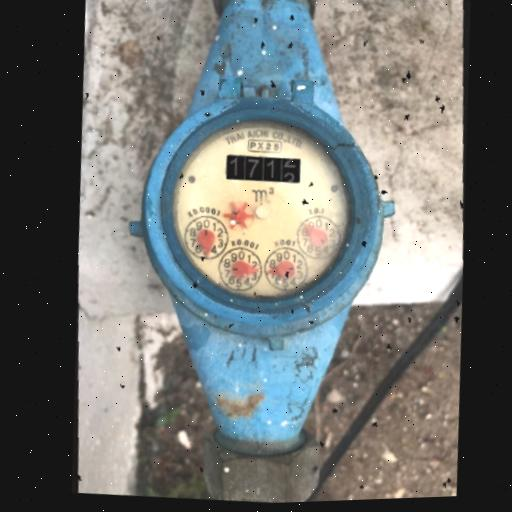1: (226, 155, 247, 181), (262, 157, 282, 182)
2: (280, 158, 302, 184)
7: (244, 156, 265, 181)
border_water_meter_number: (224, 152, 303, 187)
